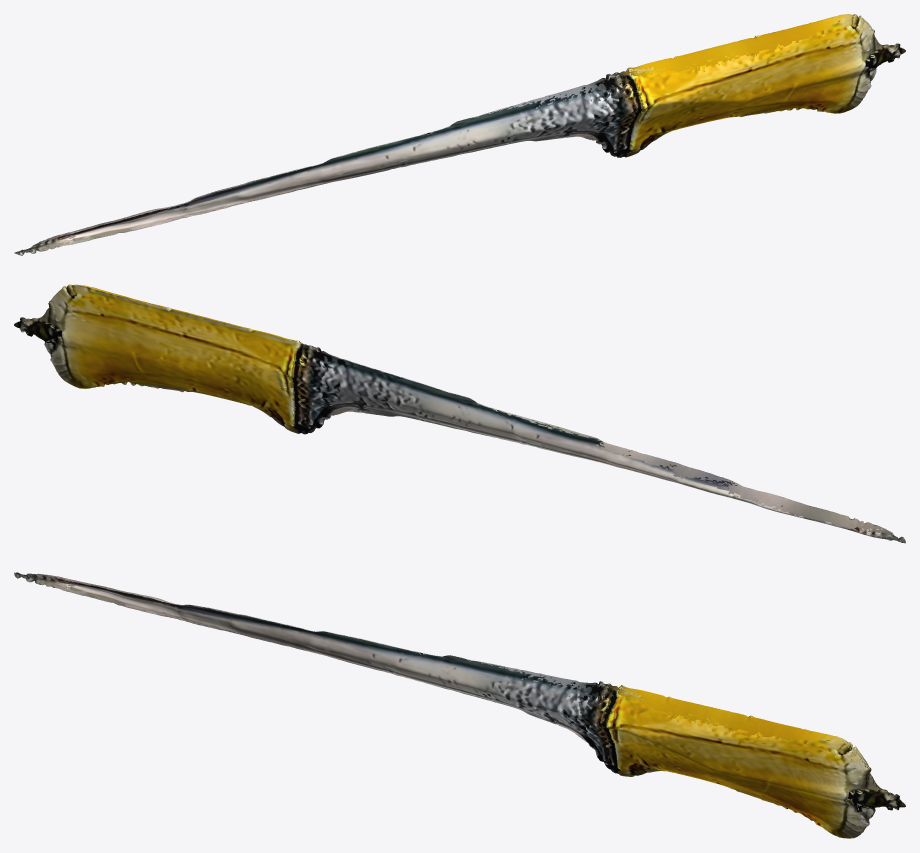
Rendered from kfl-2178.glb.
The picture shows the model from 3 angles, top to bottom: view 1: azimuth 30°, elevation 25°; view 2: azimuth 150°, elevation 25°; view 3: azimuth 330°, elevation 25°; orthographic projection.
Visible parts, largest first — view 1: kfl-2178; view 2: kfl-2178; view 3: kfl-2178.
Boxes of the visible parts, left/top/right/bottom form: kfl-2178: left=14, top=14, right=905, bottom=255; kfl-2178: left=14, top=284, right=905, bottom=543; kfl-2178: left=14, top=572, right=905, bottom=838.
Size of the model in its own units: 0.9838 by 0.1064 by 0.056.
Materials: 4 (4 with a texture image).
